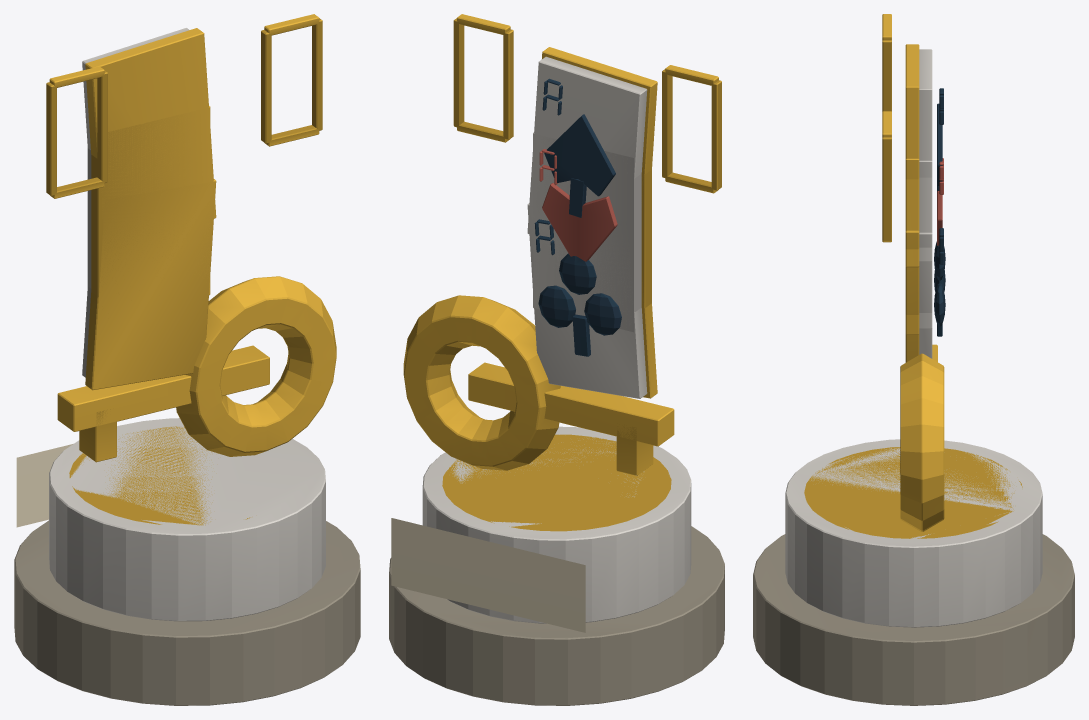
The model's file is trophy_freecell.glb.
3 views of the same model, side by side, from view 1: azimuth 30°, elevation 25°; view 2: azimuth 150°, elevation 25°; view 3: azimuth 270°, elevation 25° (orthographic). The views are drawn at different scales.
Visible parts, largest first — view 1: common_pedestal, symbol, trophy_plate; view 2: symbol, common_pedestal, trophy_plate; view 3: common_pedestal, symbol.
Part boxes in pixels (bbox=[...]): common_pedestal: bbox=[14, 418, 360, 705]; symbol: bbox=[46, 14, 336, 462]; trophy_plate: bbox=[16, 418, 179, 527]; symbol: bbox=[403, 14, 721, 475]; common_pedestal: bbox=[389, 426, 724, 705]; trophy_plate: bbox=[391, 518, 585, 632]; common_pedestal: bbox=[753, 439, 1074, 705]; symbol: bbox=[882, 14, 945, 531].
Bounding box in the file's own units: 0.9188 × 1.72 × 0.9.
